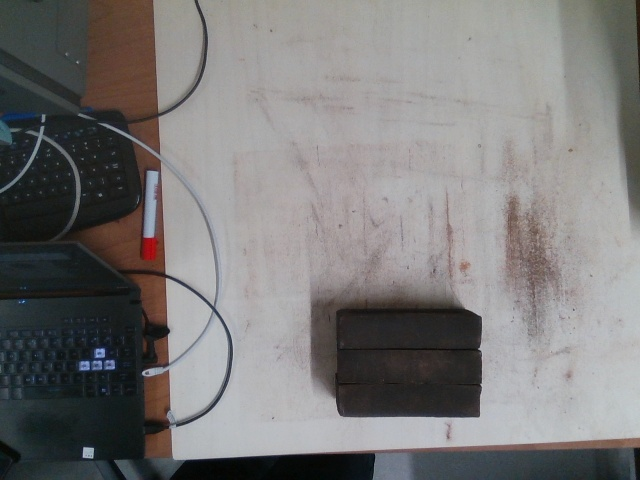brick-side: (342, 384, 477, 417), (340, 315, 475, 348), (341, 350, 477, 382)
